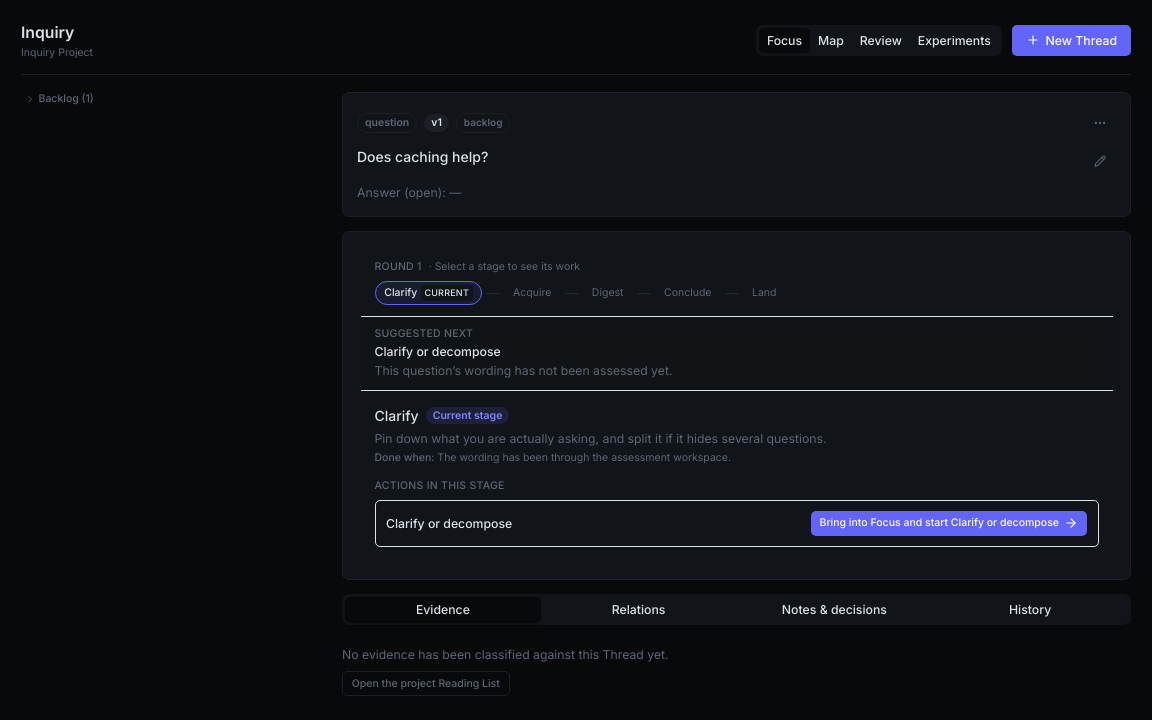
Scenario: InquiryAreaPage › uses the stage row as the only stage switcher without mutating Thread work
The image size is (1152, 720).
Step 1. Click the tab "Land" → (764, 293), box [742,281,786,304]
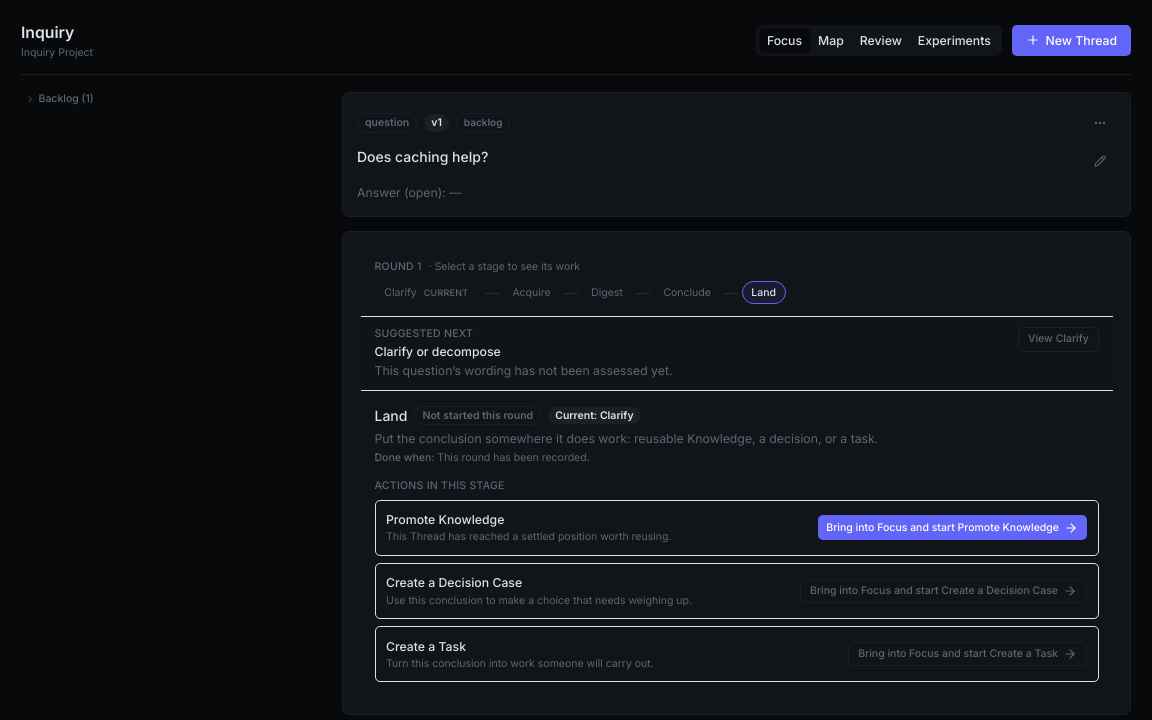
Expected: the heading "Land" is shown, [374,405,408,426]
Expected: the text "Put the conclusion somewhere it does work" is shown, [374,430,878,446]
